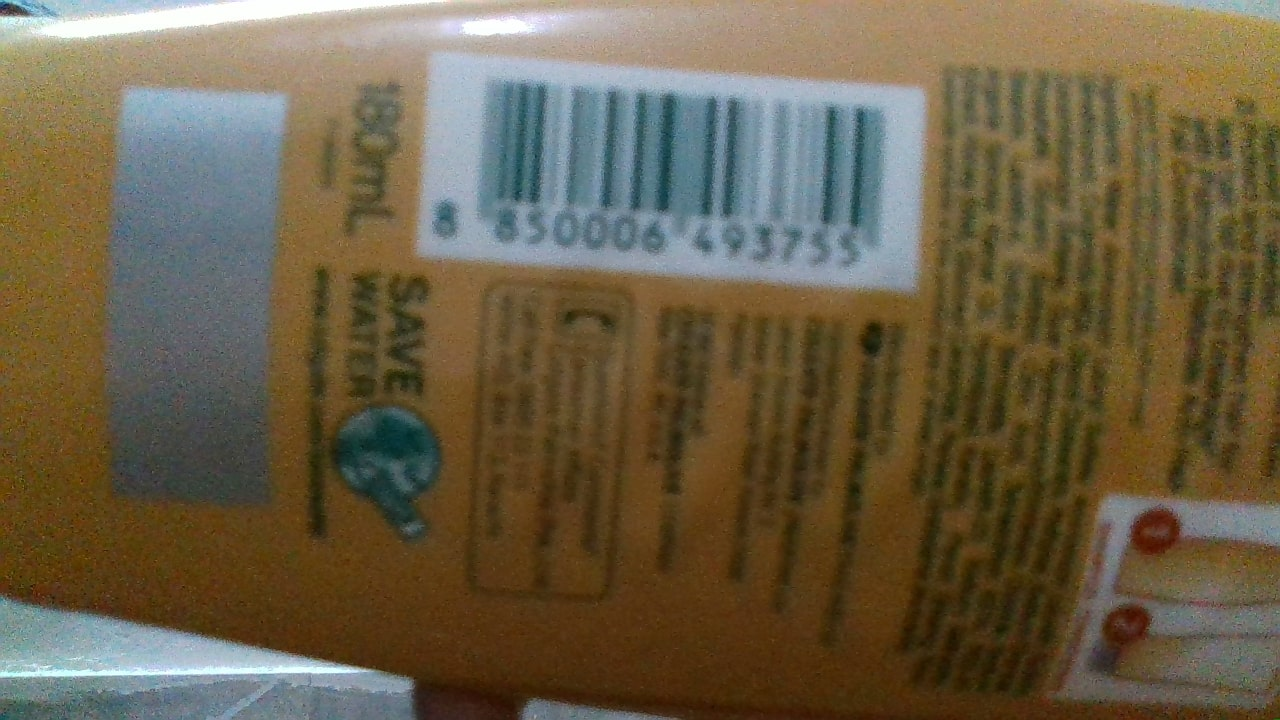Barcode: (473, 73, 891, 276)
